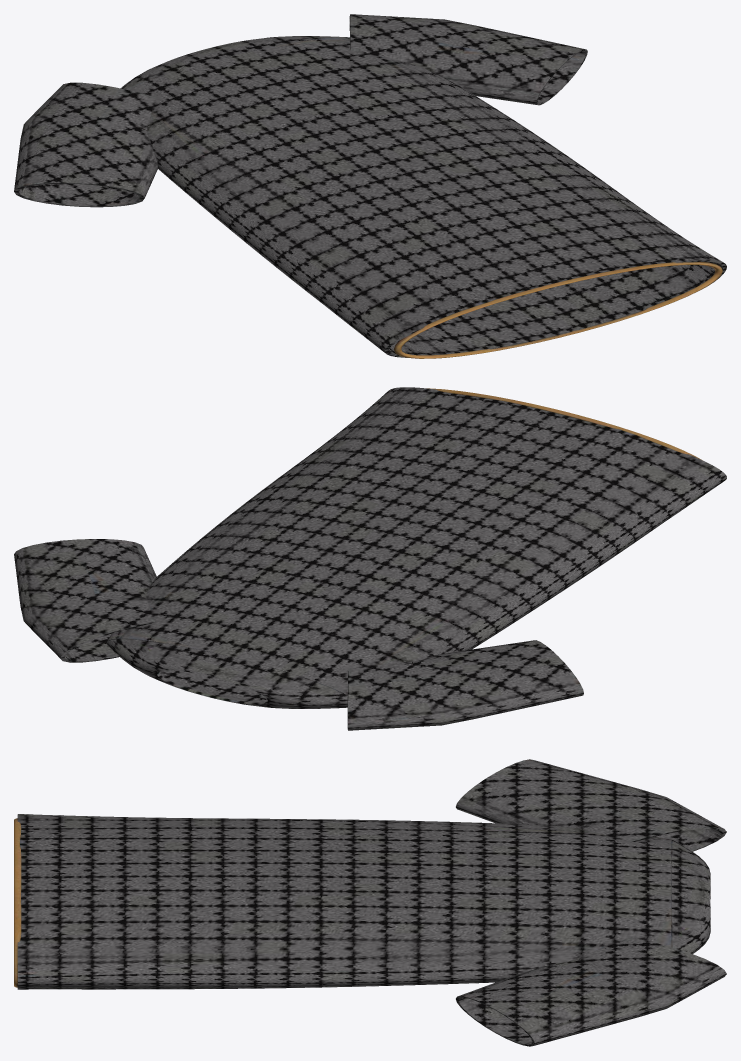
Rendered from mail_shirt.glb.
The picture shows the model from 3 angles, top to bottom: view 1: azimuth 30°, elevation 25°; view 2: azimuth 150°, elevation 25°; view 3: azimuth 270°, elevation 25°; orthographic projection.
Visible parts, largest first — view 1: mail_shirt; view 2: mail_shirt; view 3: mail_shirt.
Boxes of the visible parts, <box> form: mail_shirt: <box>14,14,726,358</box>; mail_shirt: <box>14,387,726,730</box>; mail_shirt: <box>14,759,726,1046</box>.
Bounding box in the file's own units: 0.7136 × 0.0634 × 0.7641.
1 material, 1 textured.
